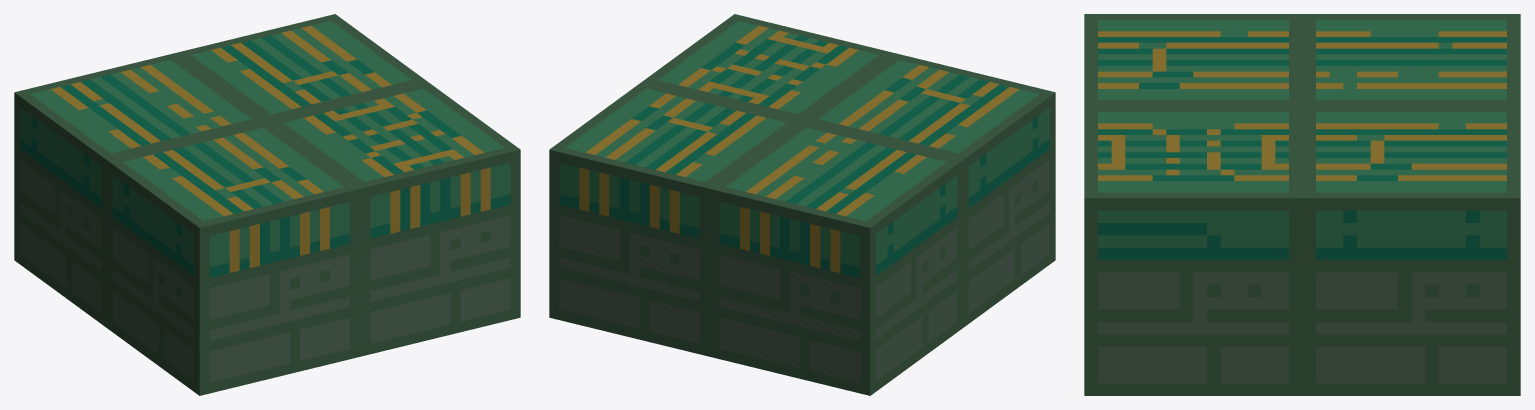
File: m_tiles_3_2x2.fbx
The picture shows the model from 3 angles, left to right: view 1: azimuth 30°, elevation 25°; view 2: azimuth 150°, elevation 25°; view 3: azimuth 270°, elevation 25°; orthographic projection. The views are drawn at different scales.
Parts seen in each view (by area): view 1: m_tiles_3_2x2; view 2: m_tiles_3_2x2; view 3: m_tiles_3_2x2.
Boxes of the visible parts, left/top/right/bottom form: m_tiles_3_2x2: left=14, top=14, right=520, bottom=395; m_tiles_3_2x2: left=549, top=14, right=1055, bottom=395; m_tiles_3_2x2: left=1084, top=14, right=1520, bottom=395.
Size of the model in its own units: 3.2 by 1.6 by 3.2.
1 material, 1 textured.
